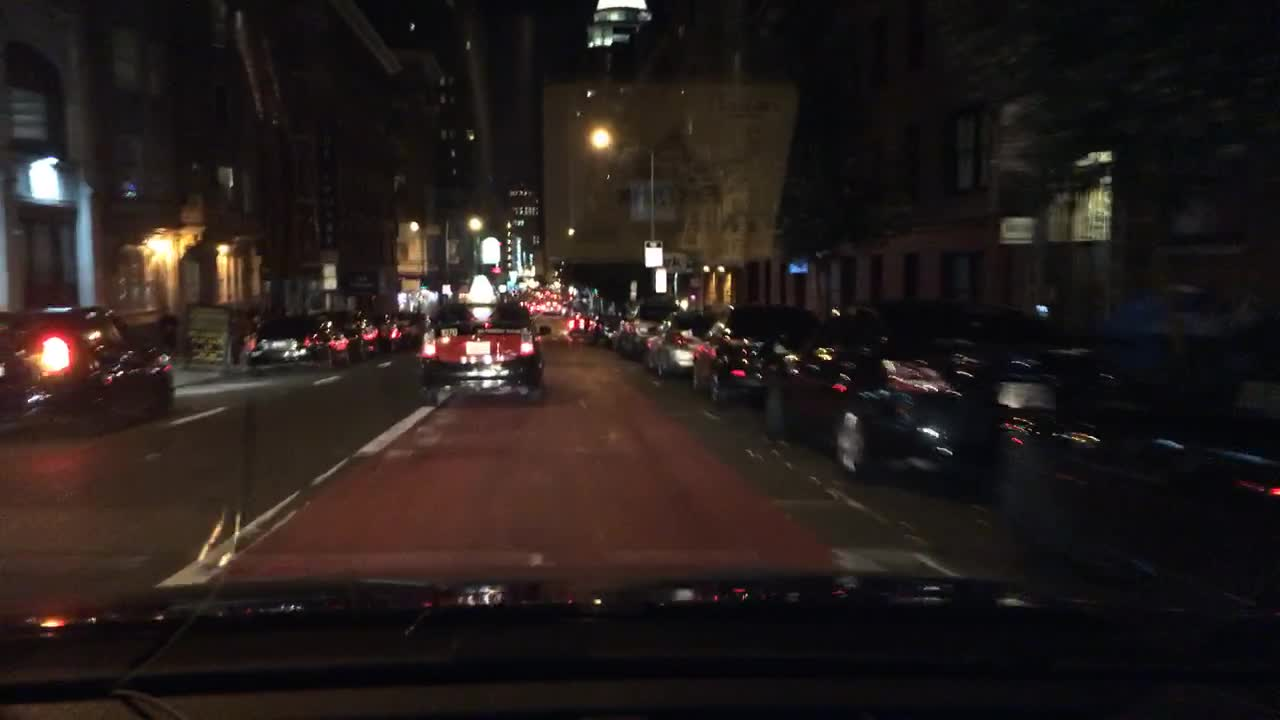car: (985, 298, 1280, 613), (750, 298, 1106, 498), (0, 301, 182, 448), (686, 300, 827, 410), (416, 298, 552, 412), (240, 308, 356, 379), (640, 306, 725, 385), (607, 300, 695, 363), (317, 308, 383, 366), (583, 306, 625, 350), (369, 311, 409, 350), (391, 311, 433, 348), (563, 298, 600, 339), (519, 296, 543, 316), (545, 300, 565, 315)
traffic sign: (996, 216, 1033, 249), (646, 235, 666, 272), (649, 264, 670, 293), (438, 276, 455, 297)
